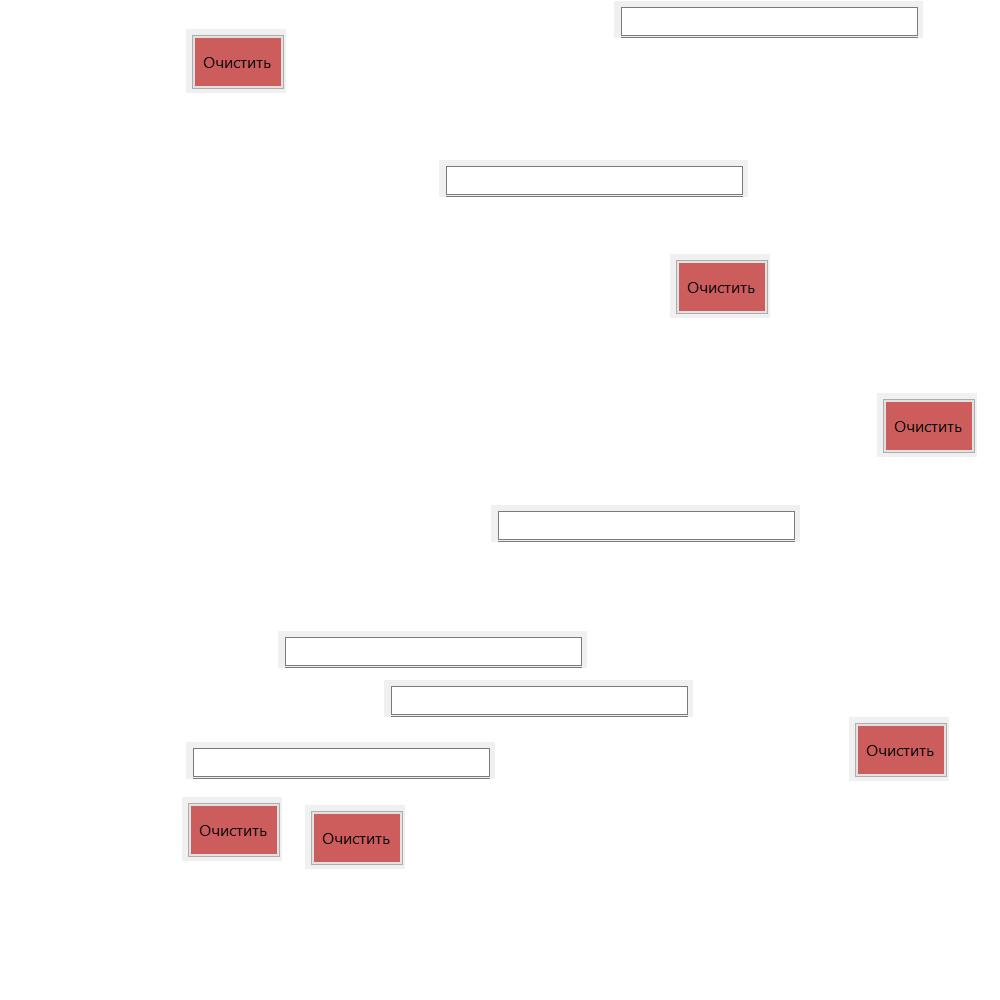Button: (305, 805, 405, 869), (182, 797, 282, 861), (670, 254, 770, 318), (849, 717, 949, 781), (877, 393, 977, 457), (186, 29, 286, 93)
EditText-: (439, 160, 748, 197), (491, 505, 800, 542), (186, 742, 495, 779), (384, 680, 693, 717), (614, 1, 923, 38), (278, 631, 587, 668)
